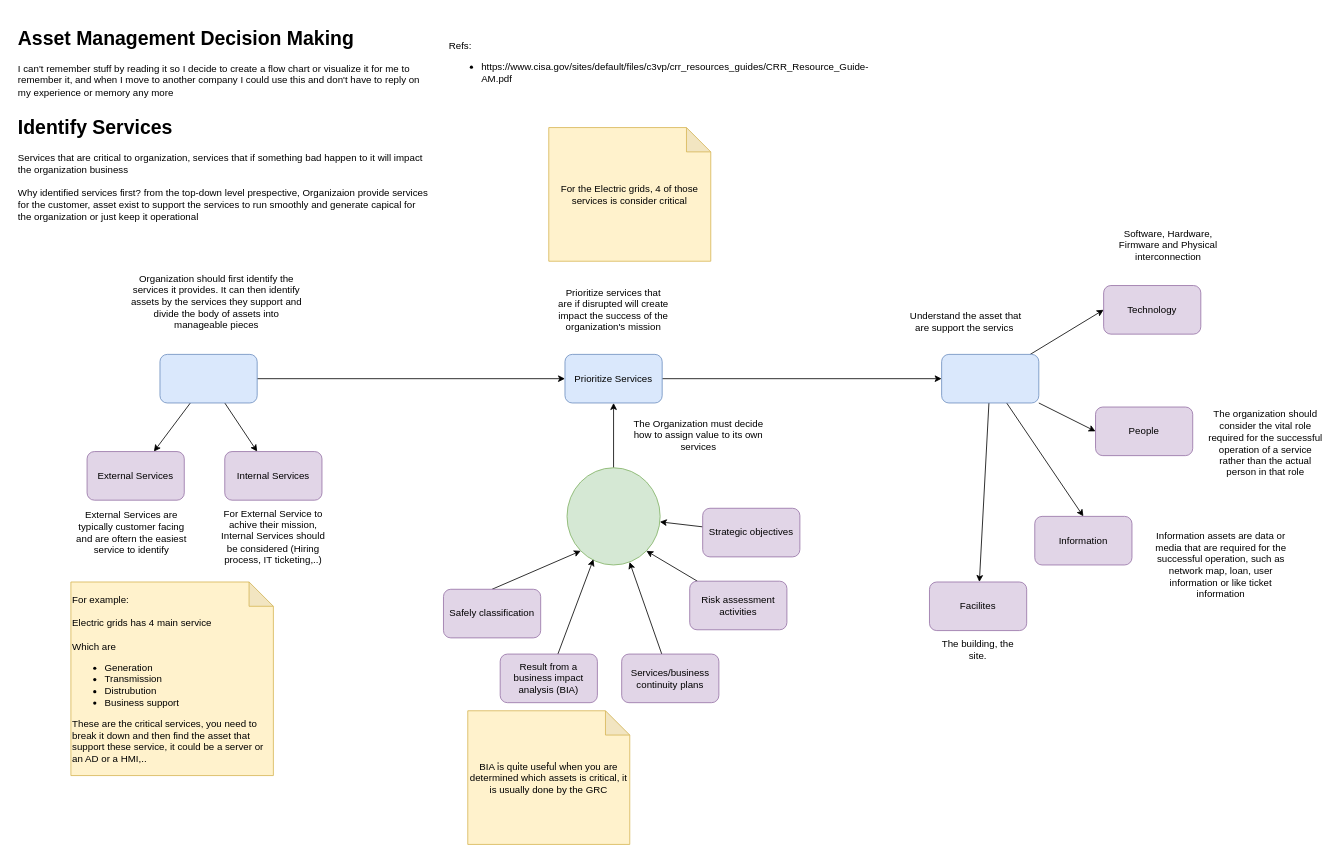
The diagram is 1340 pixels wide and 859 high, and some of its shapes have lost their labels. Each missing label, with the box of its shape:
Definition of Assets: (941, 354, 1039, 403)
Identify Services: (159, 354, 257, 403)
The value and priority of the service is based on: (566, 467, 660, 565)
